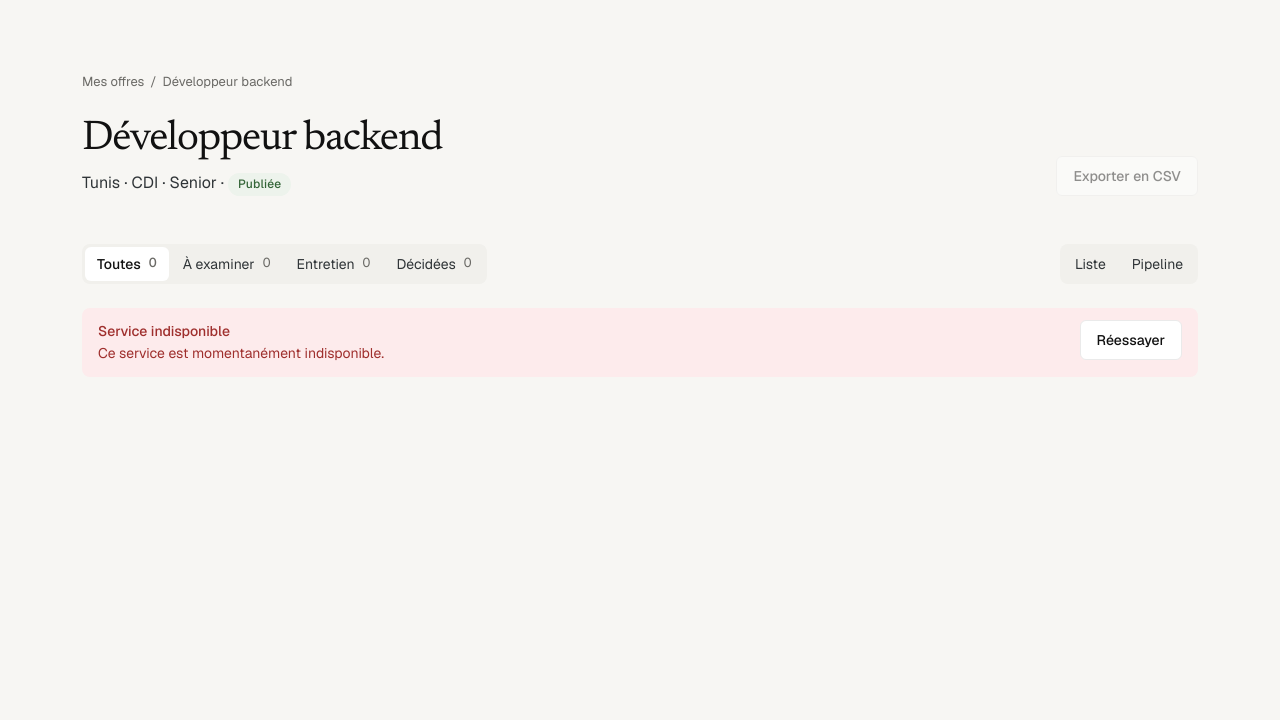
Test: loading and errors › retries a failed applications load
The image size is (1280, 720).
Click the button "Réessayer" at (1131, 340), box [1080, 320, 1182, 360]
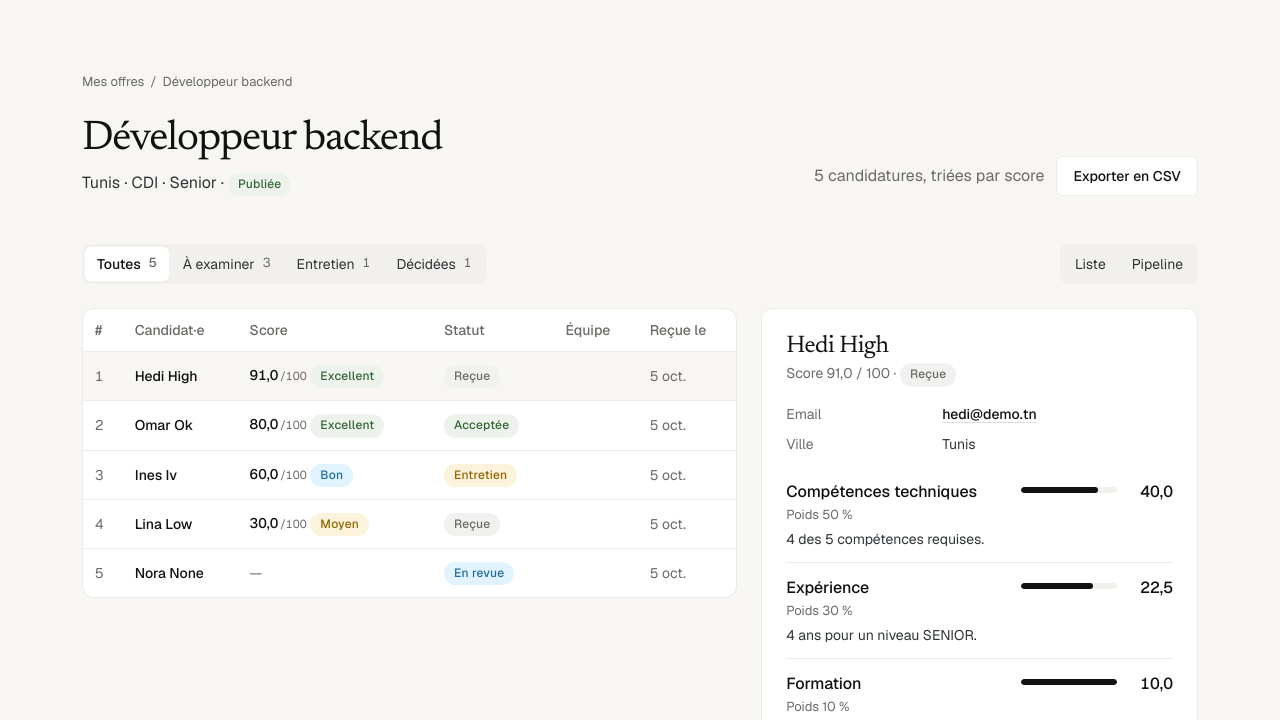
Expected: the text "Hedi High" is shown, [135, 367, 198, 385]
